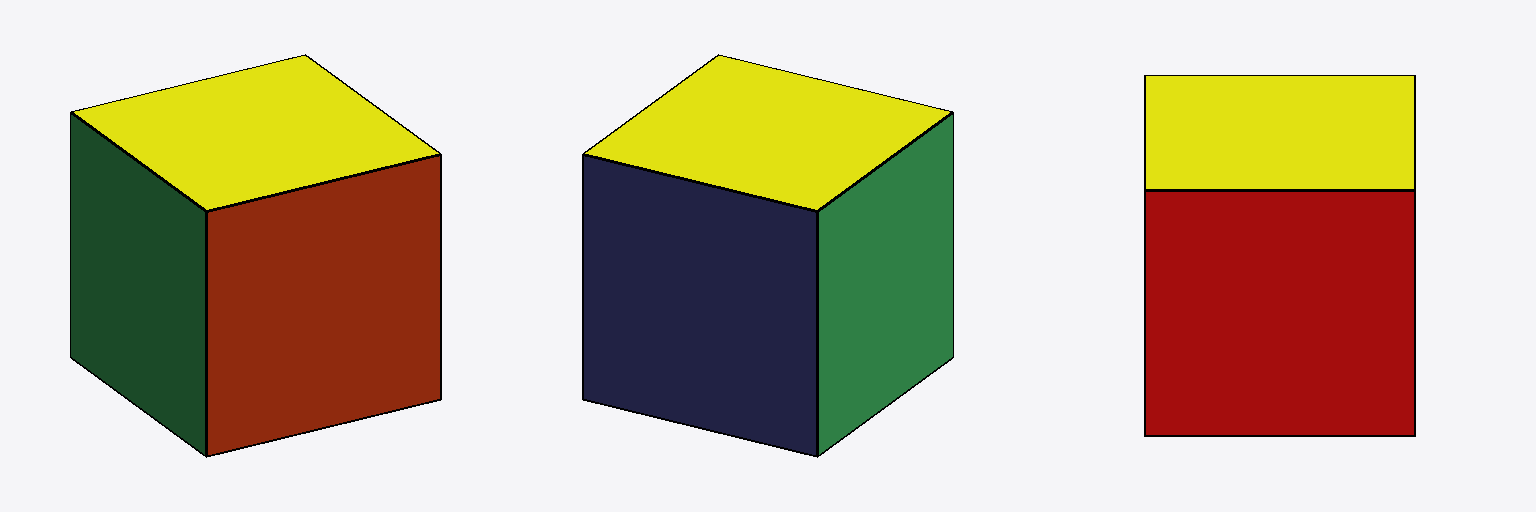
3 renders of one model, left to right at view 1: azimuth 30°, elevation 25°; view 2: azimuth 150°, elevation 25°; view 3: azimuth 270°, elevation 25°, orthographic.
Parts seen in each view (by area): view 1: Cube; view 2: Cube; view 3: Cube.
Part boxes in pixels (bbox=[...]): Cube: bbox=[70, 54, 441, 457]; Cube: bbox=[582, 54, 953, 457]; Cube: bbox=[1144, 75, 1415, 436].
Bounding box in the file's own units: 2 × 2 × 2.
1 materials, 1 textured.